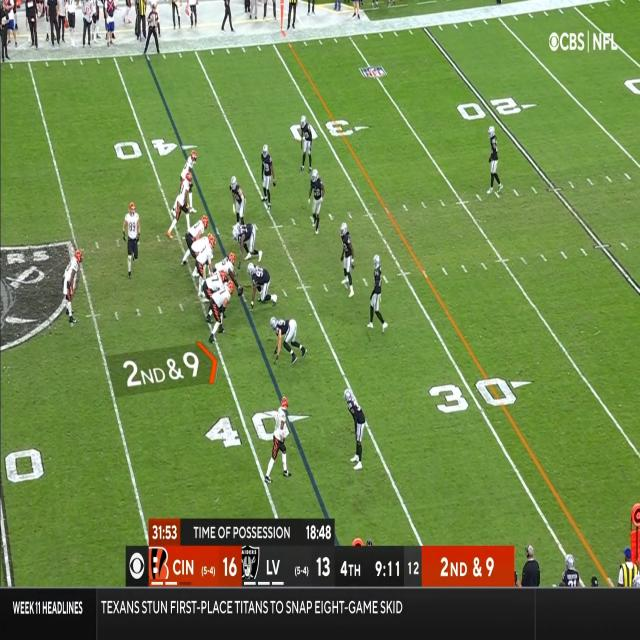football: (238, 286, 242, 297)
players: (170, 148, 203, 234), (262, 396, 290, 482), (342, 383, 368, 472), (365, 250, 390, 334), (58, 246, 84, 325), (338, 218, 360, 300), (267, 319, 306, 364), (243, 265, 281, 310), (205, 281, 233, 340), (294, 110, 319, 175), (181, 217, 210, 270), (484, 128, 506, 196), (308, 166, 329, 235), (124, 201, 142, 280), (258, 139, 277, 213), (228, 175, 250, 236), (196, 237, 216, 302), (187, 233, 217, 276), (232, 224, 262, 265), (215, 250, 242, 294), (205, 271, 228, 320)
